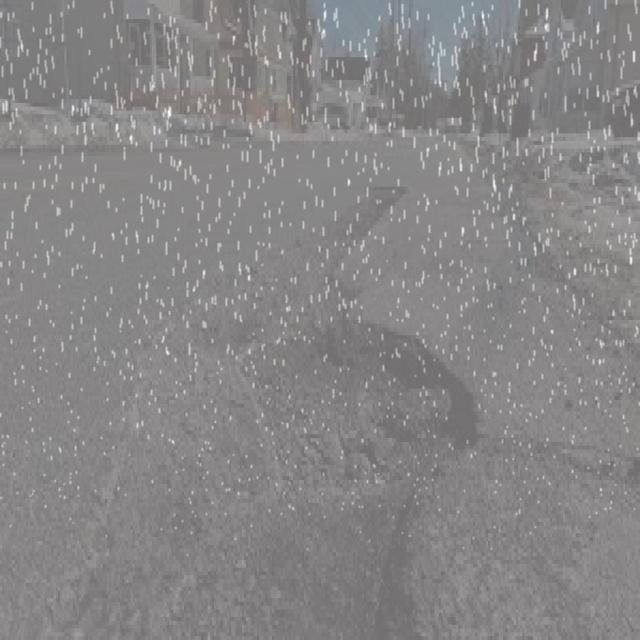Pothole: (190, 266, 537, 578), (256, 171, 417, 263)
